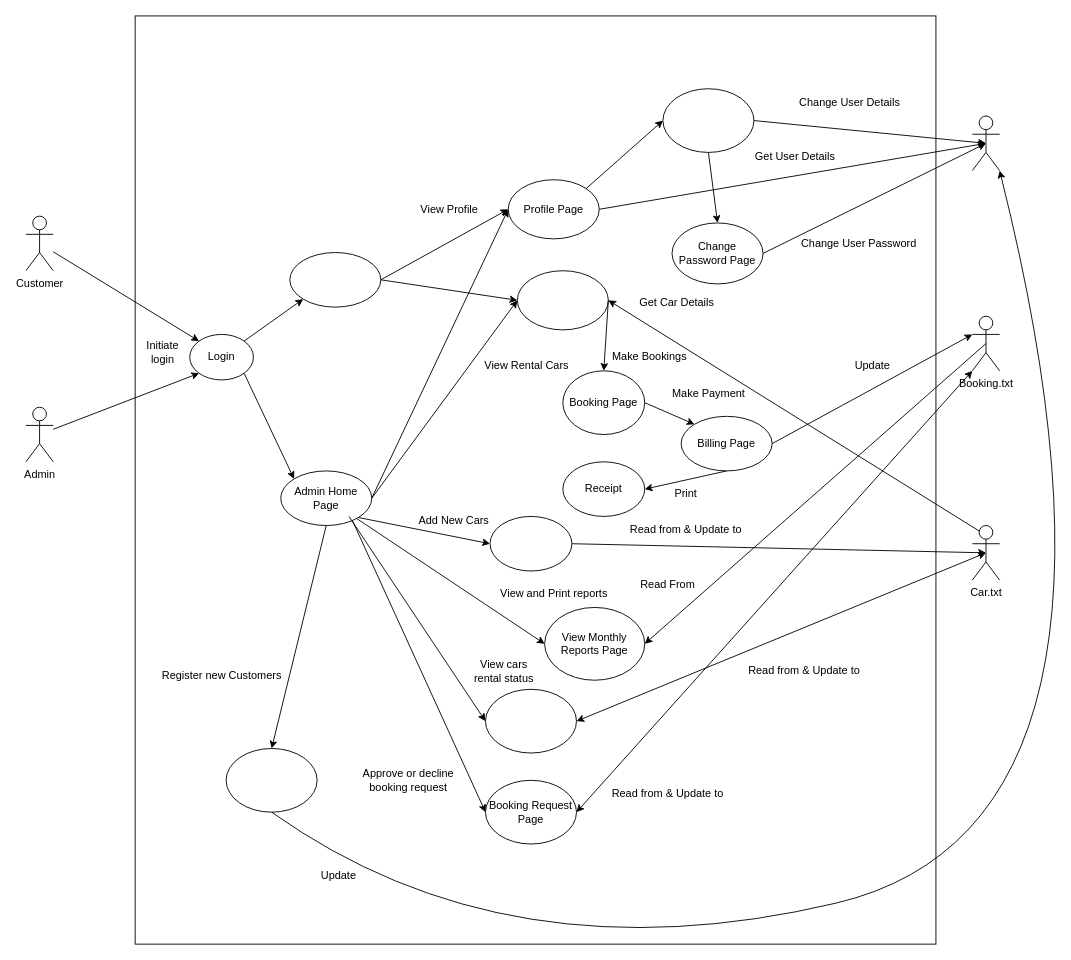
This 1071x960 diagram has some shape labels left out. Here are the shapes that lost their labels. From the top down, the centre of each, then its label:
At [708,120]: "Edit Profile Page".
At [985,143]: "userDetails.txt".
At [335,279]: "Customer Home Page".
At [562,300]: "View All Car Page".
At [530,543]: "Add Car Page".
At [530,720]: "Returned Cars Page".
At [271,780]: "Registration Page".
